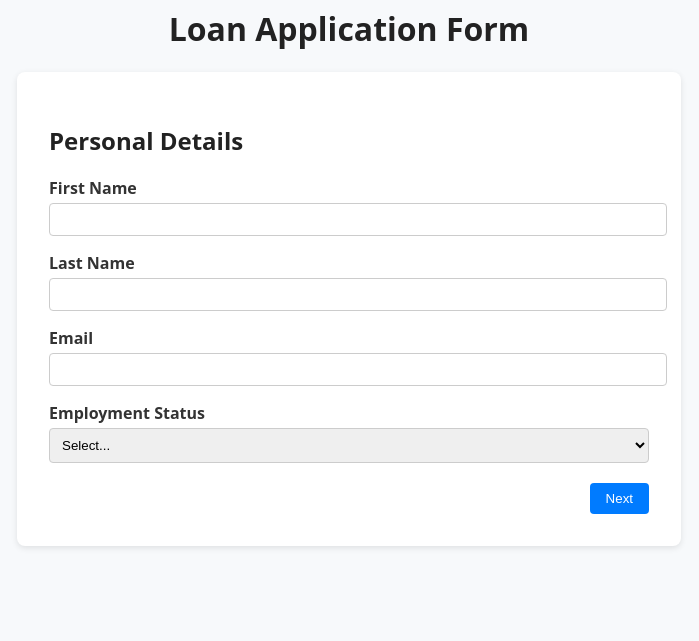
Test: Loan Application Form Validations › shows Employer Name only when Employed
The width and height of the screenshot is (699, 641).
Select "Self-Employed" in the dropdown named "employmentStatus": (349, 446) [49,428,649,463]
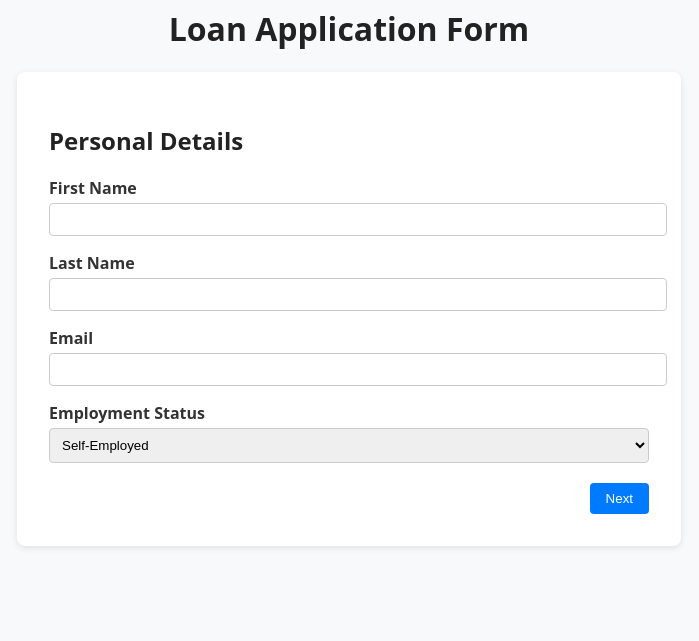
Select "Employed" in the dropdown named "employmentStatus": (349, 446) [49,428,649,463]
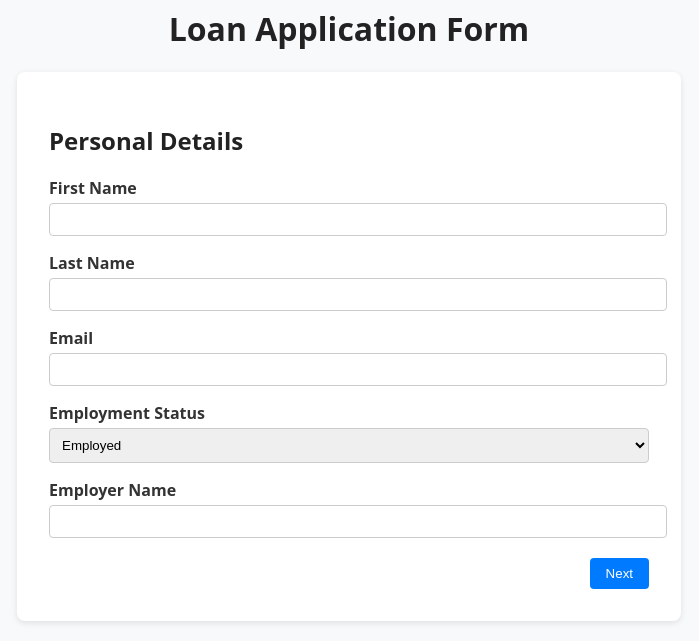
Expected: the field named "employerName" is shown, [49,505,667,538]
